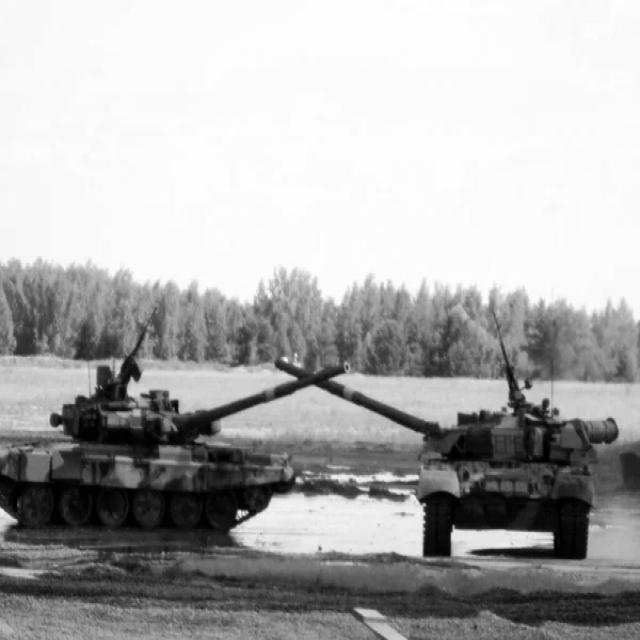Tank: (296, 351, 626, 561), (0, 351, 351, 543)
